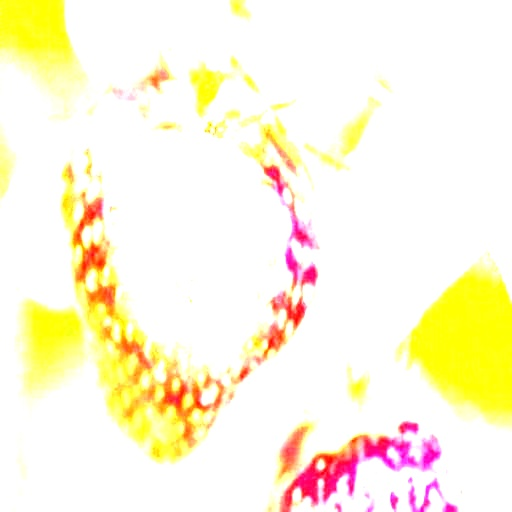Gray Mold: (107, 113, 287, 373)
